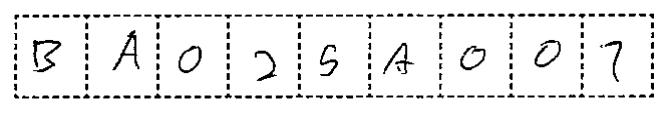0: (172, 40, 211, 82), (451, 40, 493, 79), (526, 32, 566, 72)
2: (245, 45, 286, 85)
5: (312, 41, 345, 81)
7: (595, 36, 630, 84)
A: (377, 37, 420, 83), (109, 26, 147, 76)
B: (22, 34, 67, 77)
